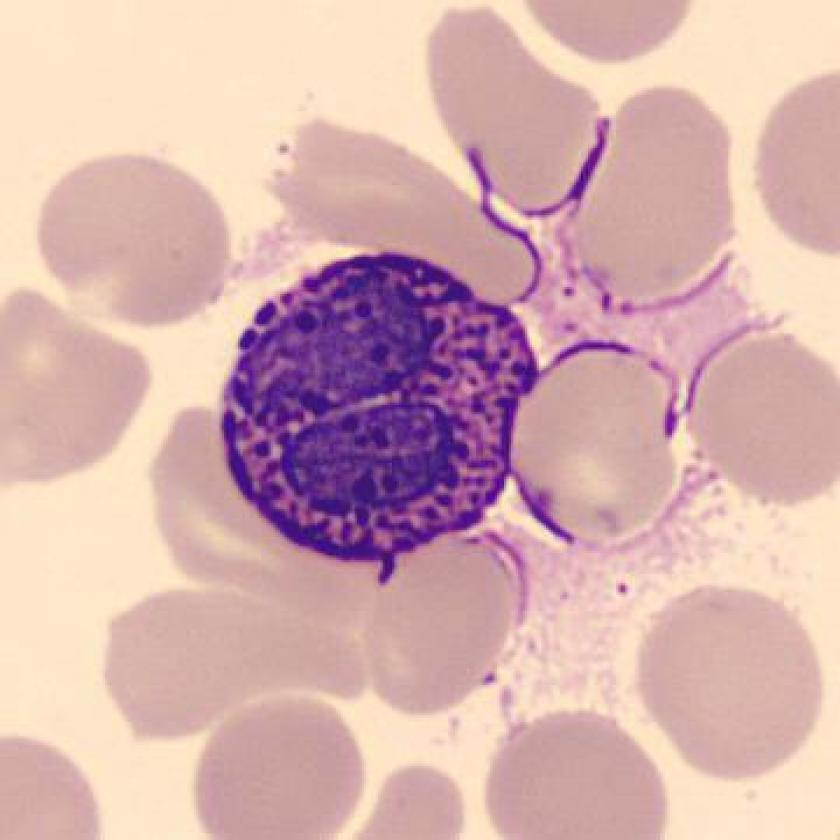basophil: (213, 244, 533, 561)
